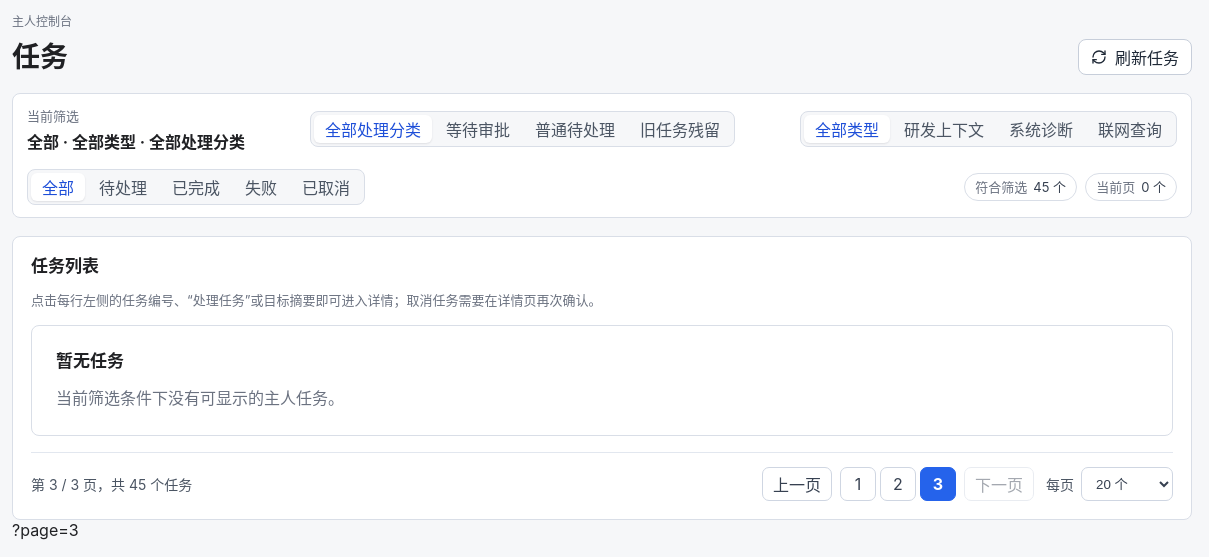
Scenario: pending list URL filters › returns to the first page when a filter or page size changes
Expected: the text named "current search" shows "page=3", [12,520,79,540]
Step 1. Click the button "待处理" → (123,187), box [88,173,158,201]
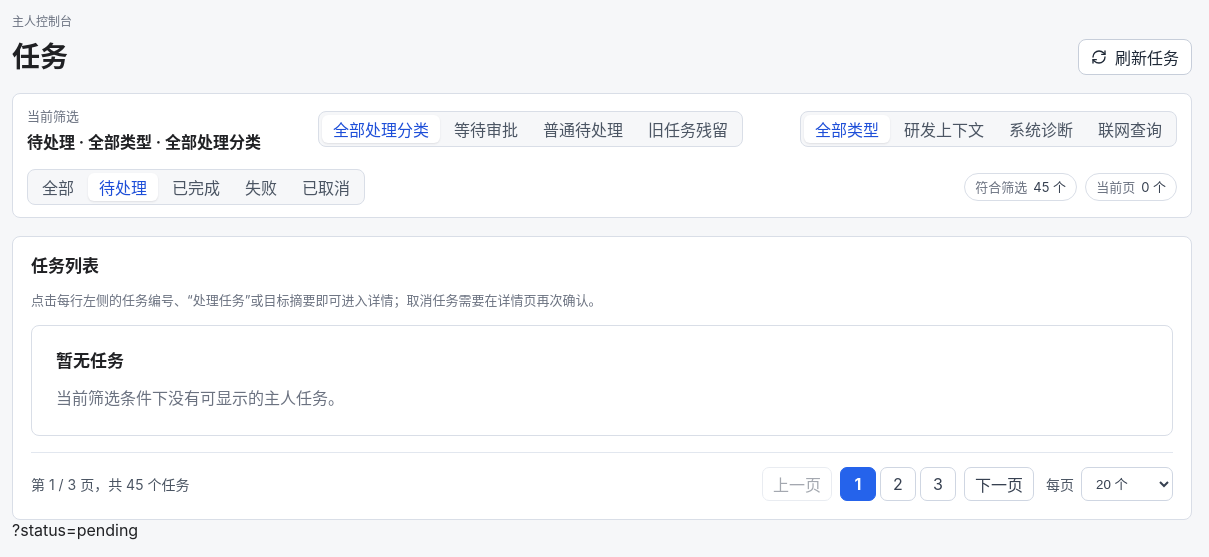
Expected: the text labelled "current search" no longer shows "page=3"
Step 2. Select "50 个" in the dropdown named "每页任务数" → (1127,484), box [1081,468,1173,502]
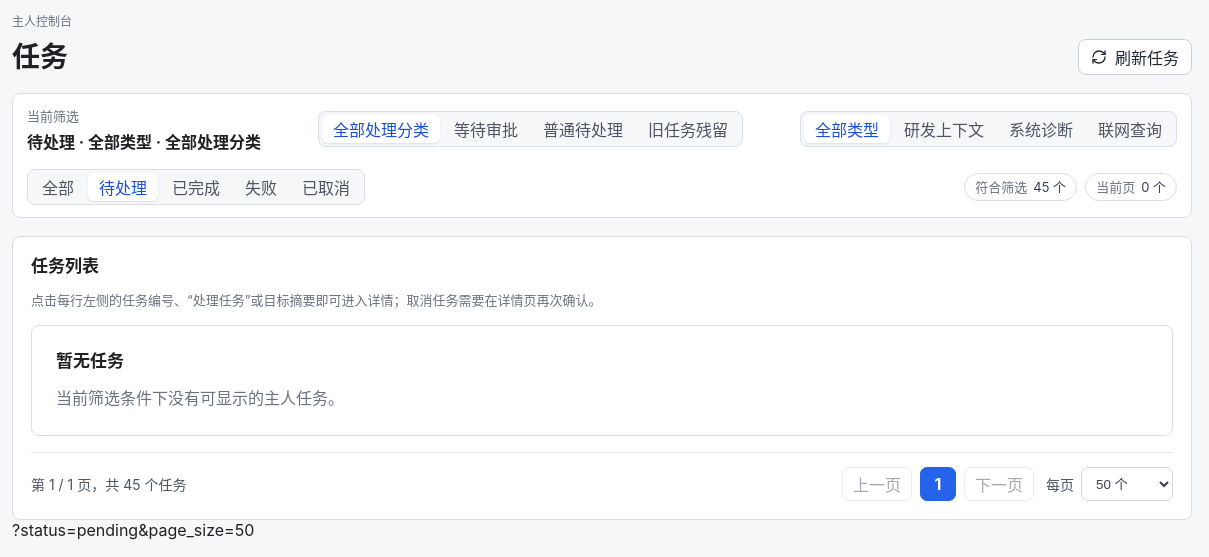
Expected: the text named "current search" shows "page_size=50", [12,520,254,540]
